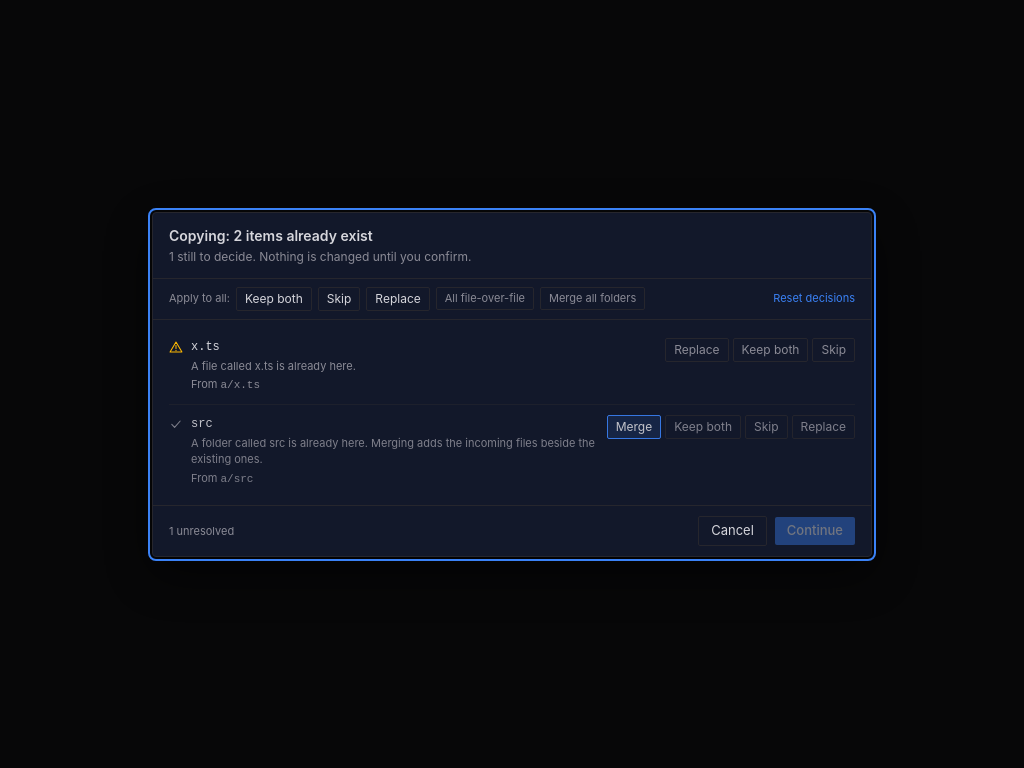
applying to many at once › settles every conflict from the apply-to-all row
The image size is (1024, 768).
Click the button with aria-label "Skip for all conflicts".
click(339, 298)  # box [318, 286, 360, 310]
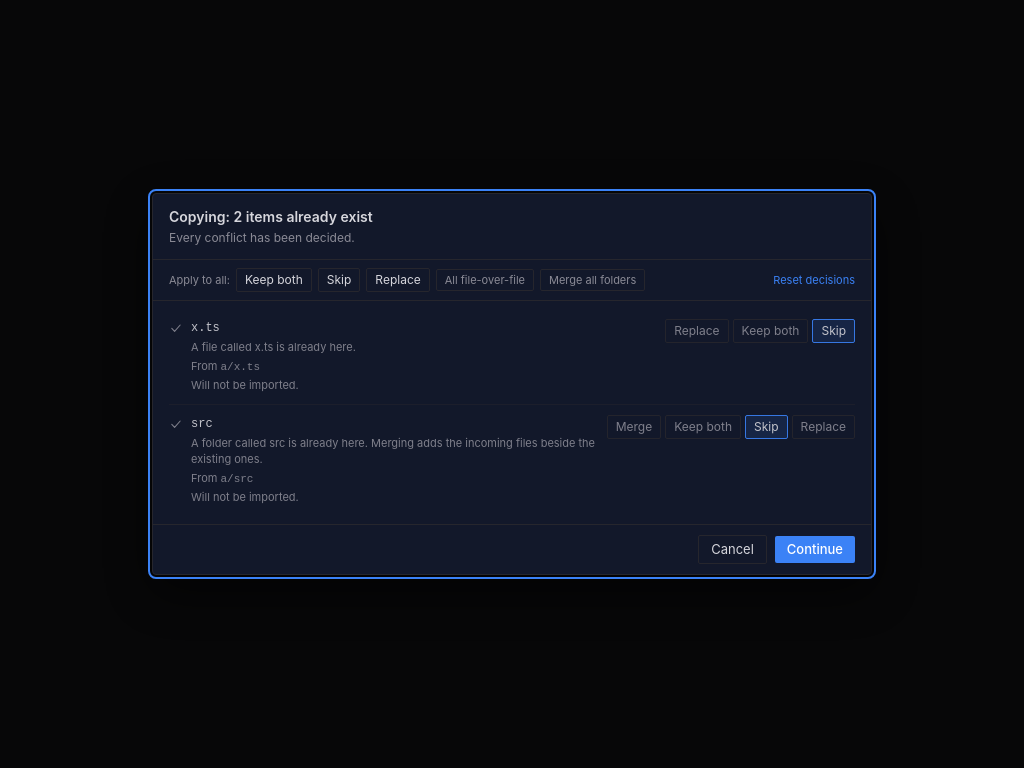
Expected: the button "Continue" is enabled, [775, 536, 855, 563]
